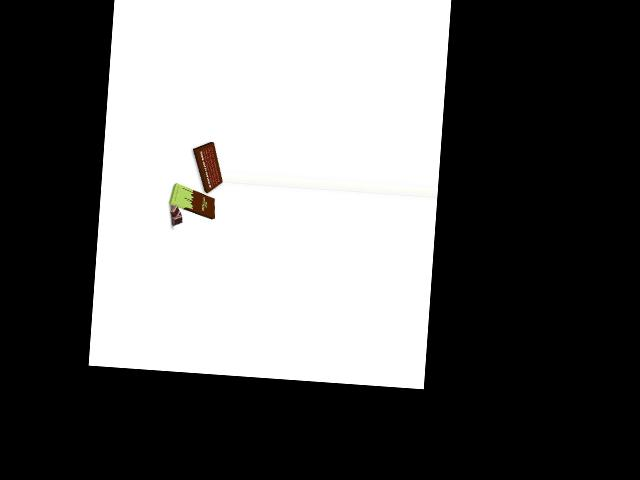chocolate: (166, 185, 217, 216)
